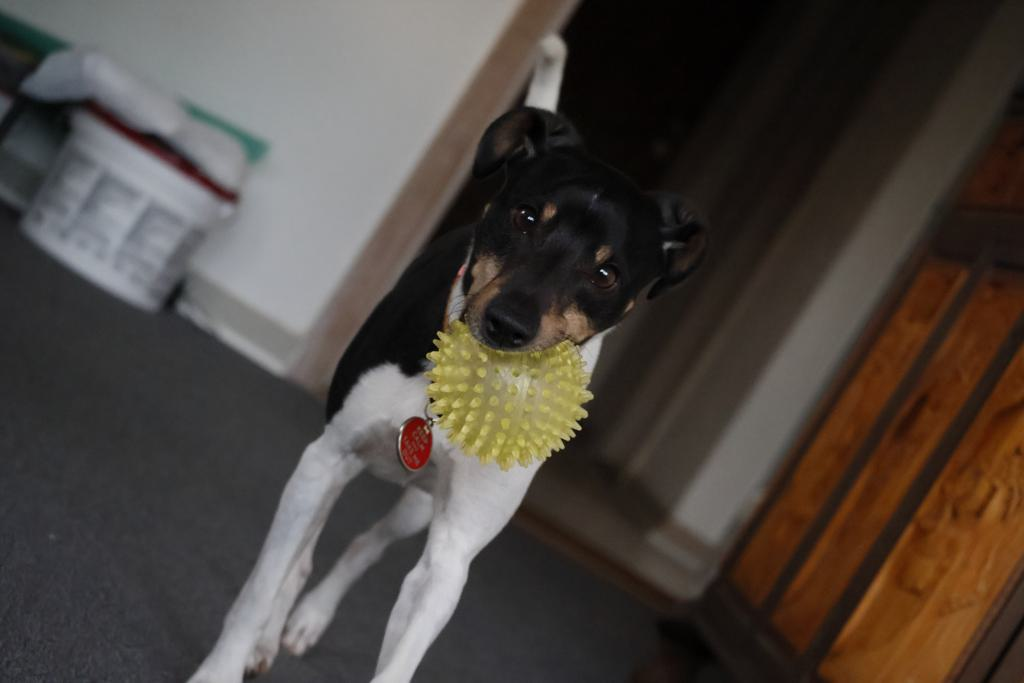Dog: (172, 26, 729, 683)
